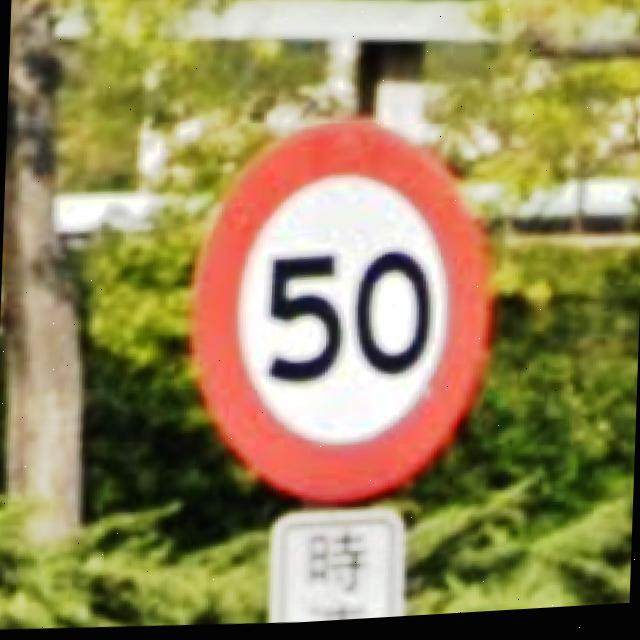max50: (177, 107, 503, 521)
